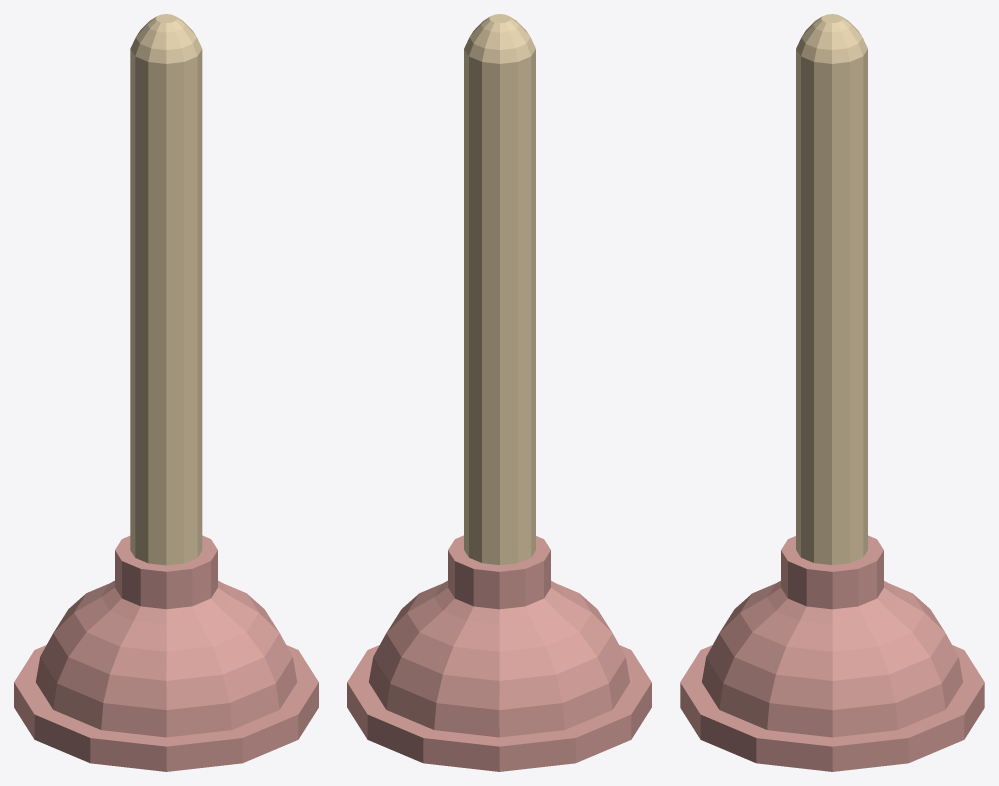
Rendered from plunger_fbx.fbx.
3 views of the same model, side by side, from view 1: azimuth 30°, elevation 25°; view 2: azimuth 150°, elevation 25°; view 3: azimuth 270°, elevation 25° (orthographic).
Visible parts, largest first — view 1: plunger; view 2: plunger; view 3: plunger.
Boxes of the visible parts, x1=… form: plunger: x1=14, y1=14, x2=318, y2=771; plunger: x1=347, y1=14, x2=651, y2=771; plunger: x1=680, y1=14, x2=984, y2=771.
Bounding box in the file's own units: 0.9155 × 2.28 × 0.9155.
